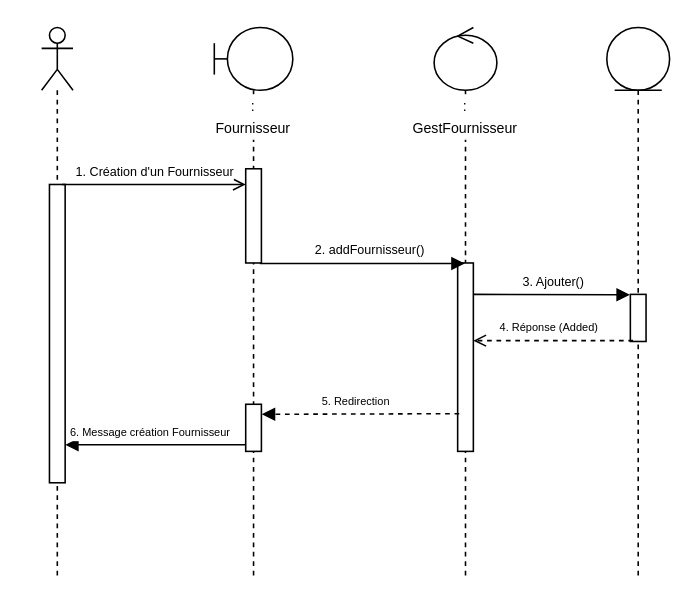
The diagram is 697 pixels wide and 604 high, and some of its shapes have lost their labels. The shapes that lost their labels are listed below. From the top down, each one's box as (x1, y1, x2, y2) in pixels, then its label:
(40, 26, 73, 577): : Ingenieur BE
(605, 26, 670, 577): : SGBD
